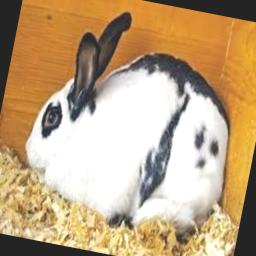rabbit: (24, 12, 230, 233)
